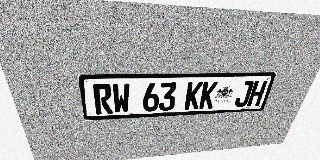3: (159, 82, 177, 111)
6: (143, 83, 160, 112)
H: (246, 80, 268, 106)
J: (234, 81, 255, 107)
K: (184, 82, 203, 110), (199, 81, 218, 109)
R: (92, 84, 113, 114)
W: (112, 83, 130, 113)
